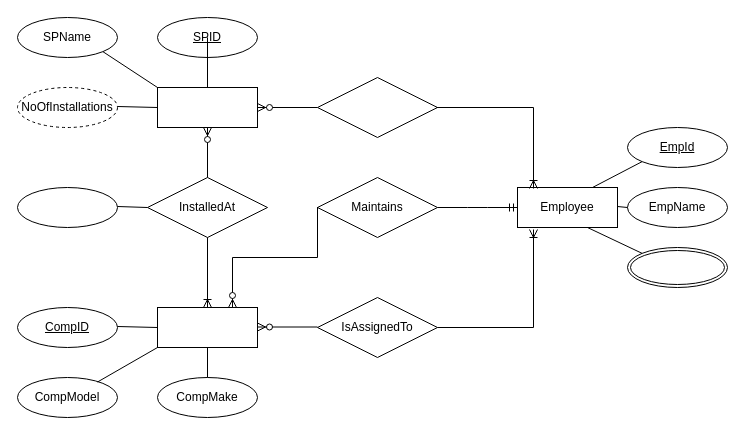
Some shapes in this 745 by 435 pixel diagram are drawn without their labels. The shapes that lost their labels are listed below. From the top down, each one's centre as x and y in pixels, then its label:
[207,107]: Software Package
[377,107]: CertifiedToUse
[67,207]: DateOfInstall
[677,267]: EmpSkill
[207,327]: Computer
